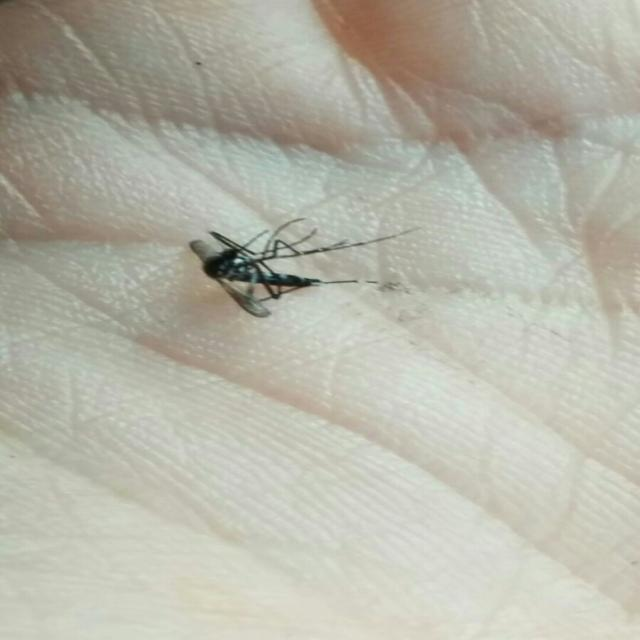albopictus: (174, 209, 416, 323)
